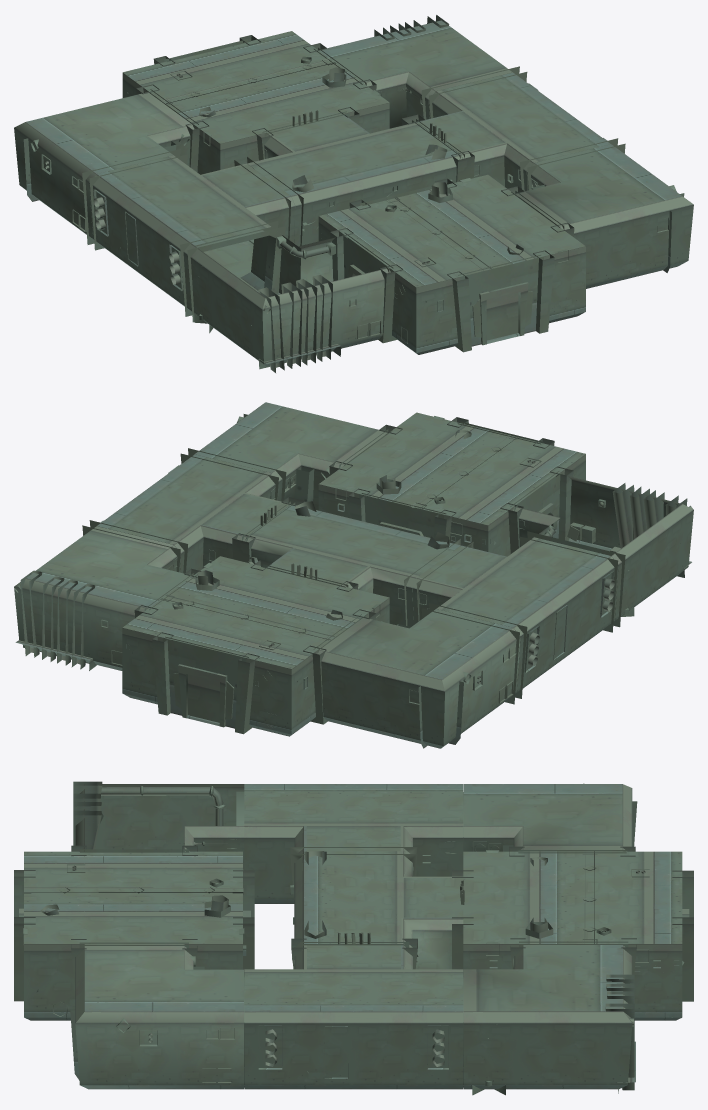
The model's file is Combined_Mesh_root_scene__22_9f3a19a4__zombies2_diffuse_09_d56e2e54_c1f257.obj.
3 renders of one model, top to bottom at view 1: azimuth 30°, elevation 25°; view 2: azimuth 150°, elevation 25°; view 3: azimuth 270°, elevation 25°, orthographic. The views are drawn at different scales.
Size of the model in its own units: 52.07 by 9.64 by 62.1.
Materials: 146 (146 with a texture image).
